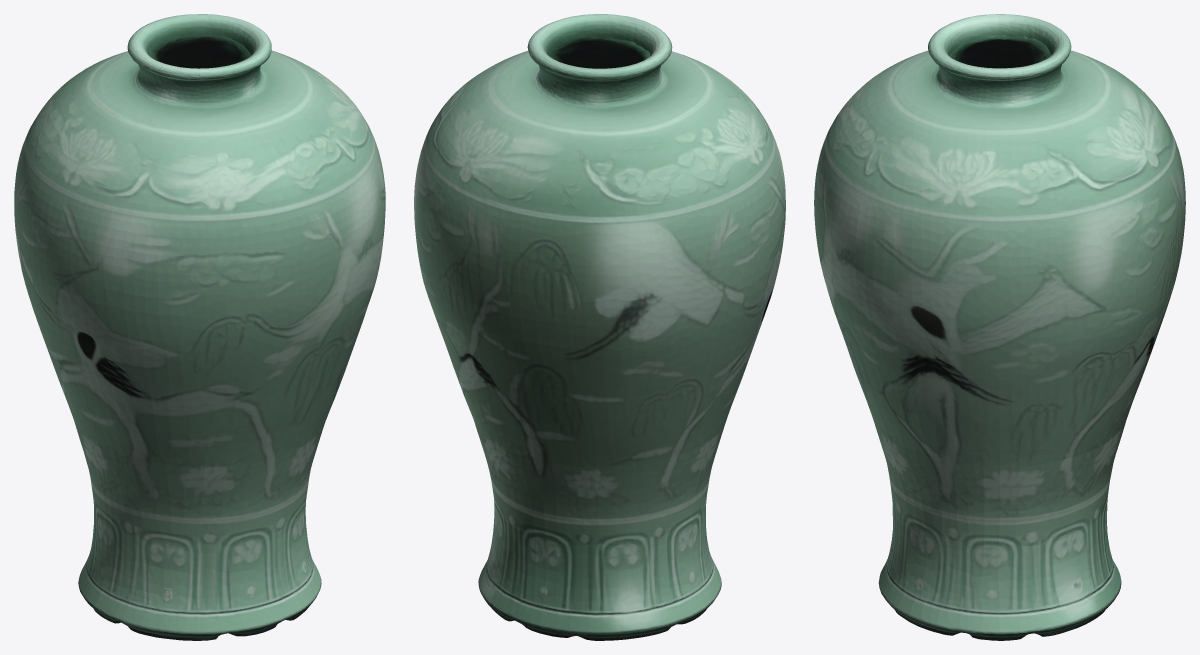
File: goryeo_celadon.glb
3 renders of one model, left to right at view 1: azimuth 30°, elevation 25°; view 2: azimuth 150°, elevation 25°; view 3: azimuth 270°, elevation 25°, orthographic.
Parts seen in each view (by area): view 1: world; view 2: world; view 3: world.
Boxes of the visible parts, left/top/right/bottom form: world: left=14, top=14, right=385, bottom=640; world: left=414, top=14, right=785, bottom=640; world: left=814, top=14, right=1185, bottom=640.
Size of the model in its own units: 0.4273 by 0.6998 by 0.4273.
Materials: 1 (1 with a texture image).
